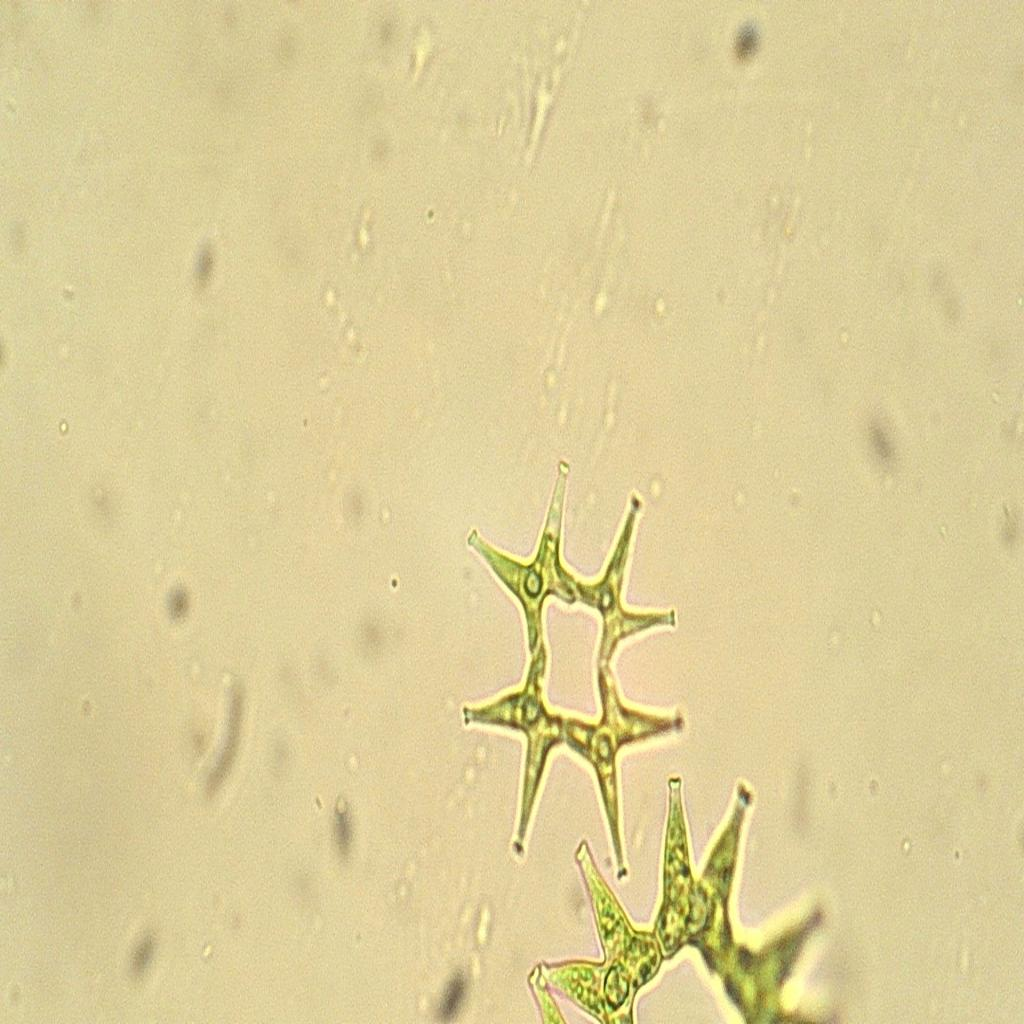Pediastrum_75O: (445, 460, 705, 880)
